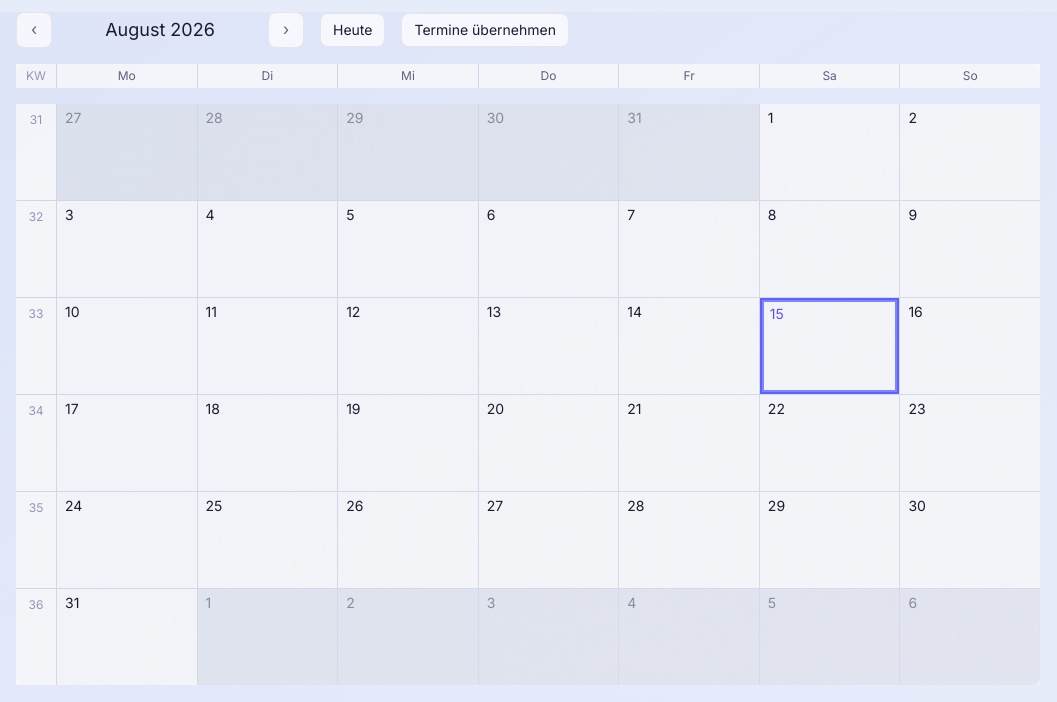
Test: CalendarView — month paging › next/prev buttons page through months and refetch each one
Expected: the heading "August 2026" is shown, [105,19,215,40]
Click the button named "Nächster Monat" at (286, 30), box [268,12,304,48]
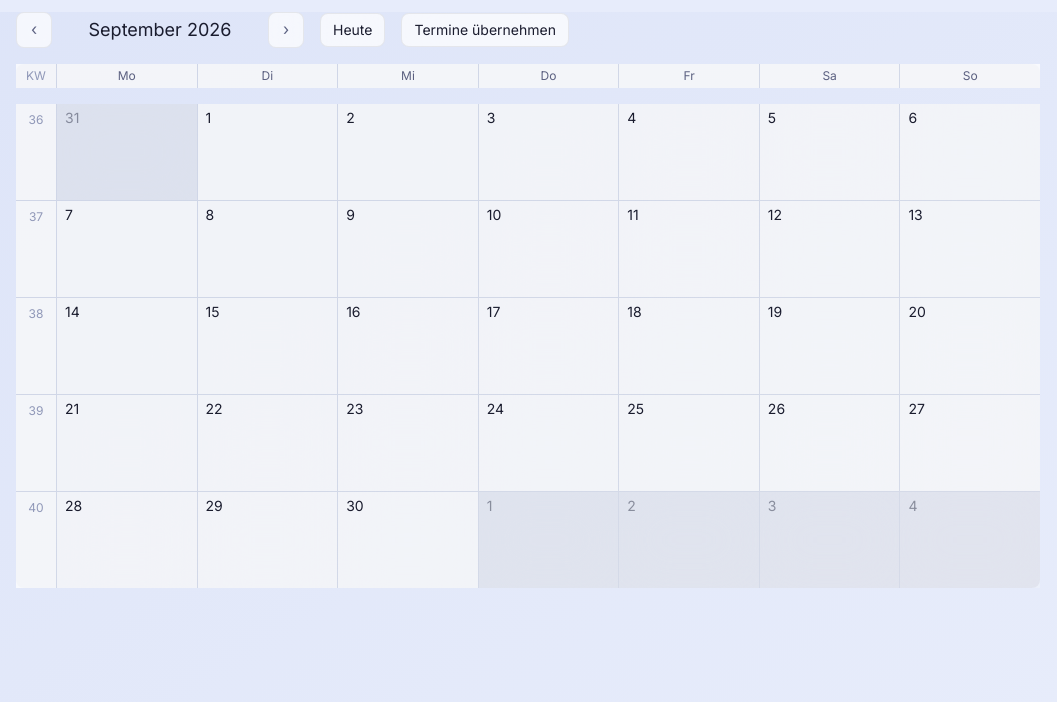
Expected: the heading "September 2026" is shown, [89,19,232,40]
Click the button named "Vorheriger Monat" at (34, 30), box [16,12,52,48]
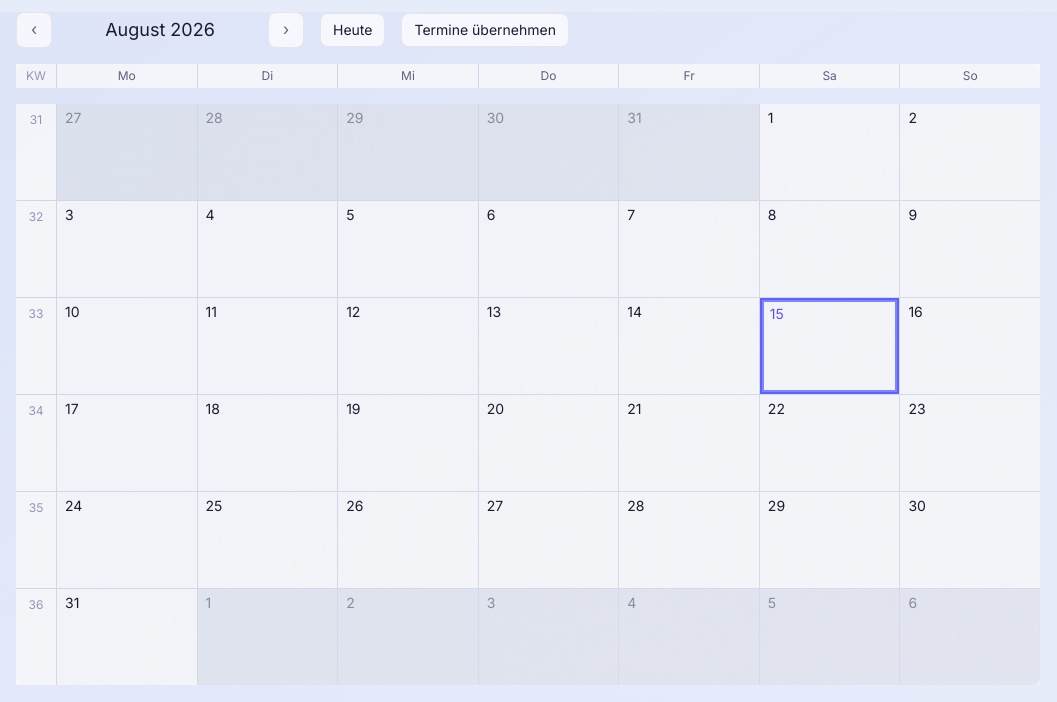
Expected: the heading "August 2026" is shown, [105,19,215,40]
